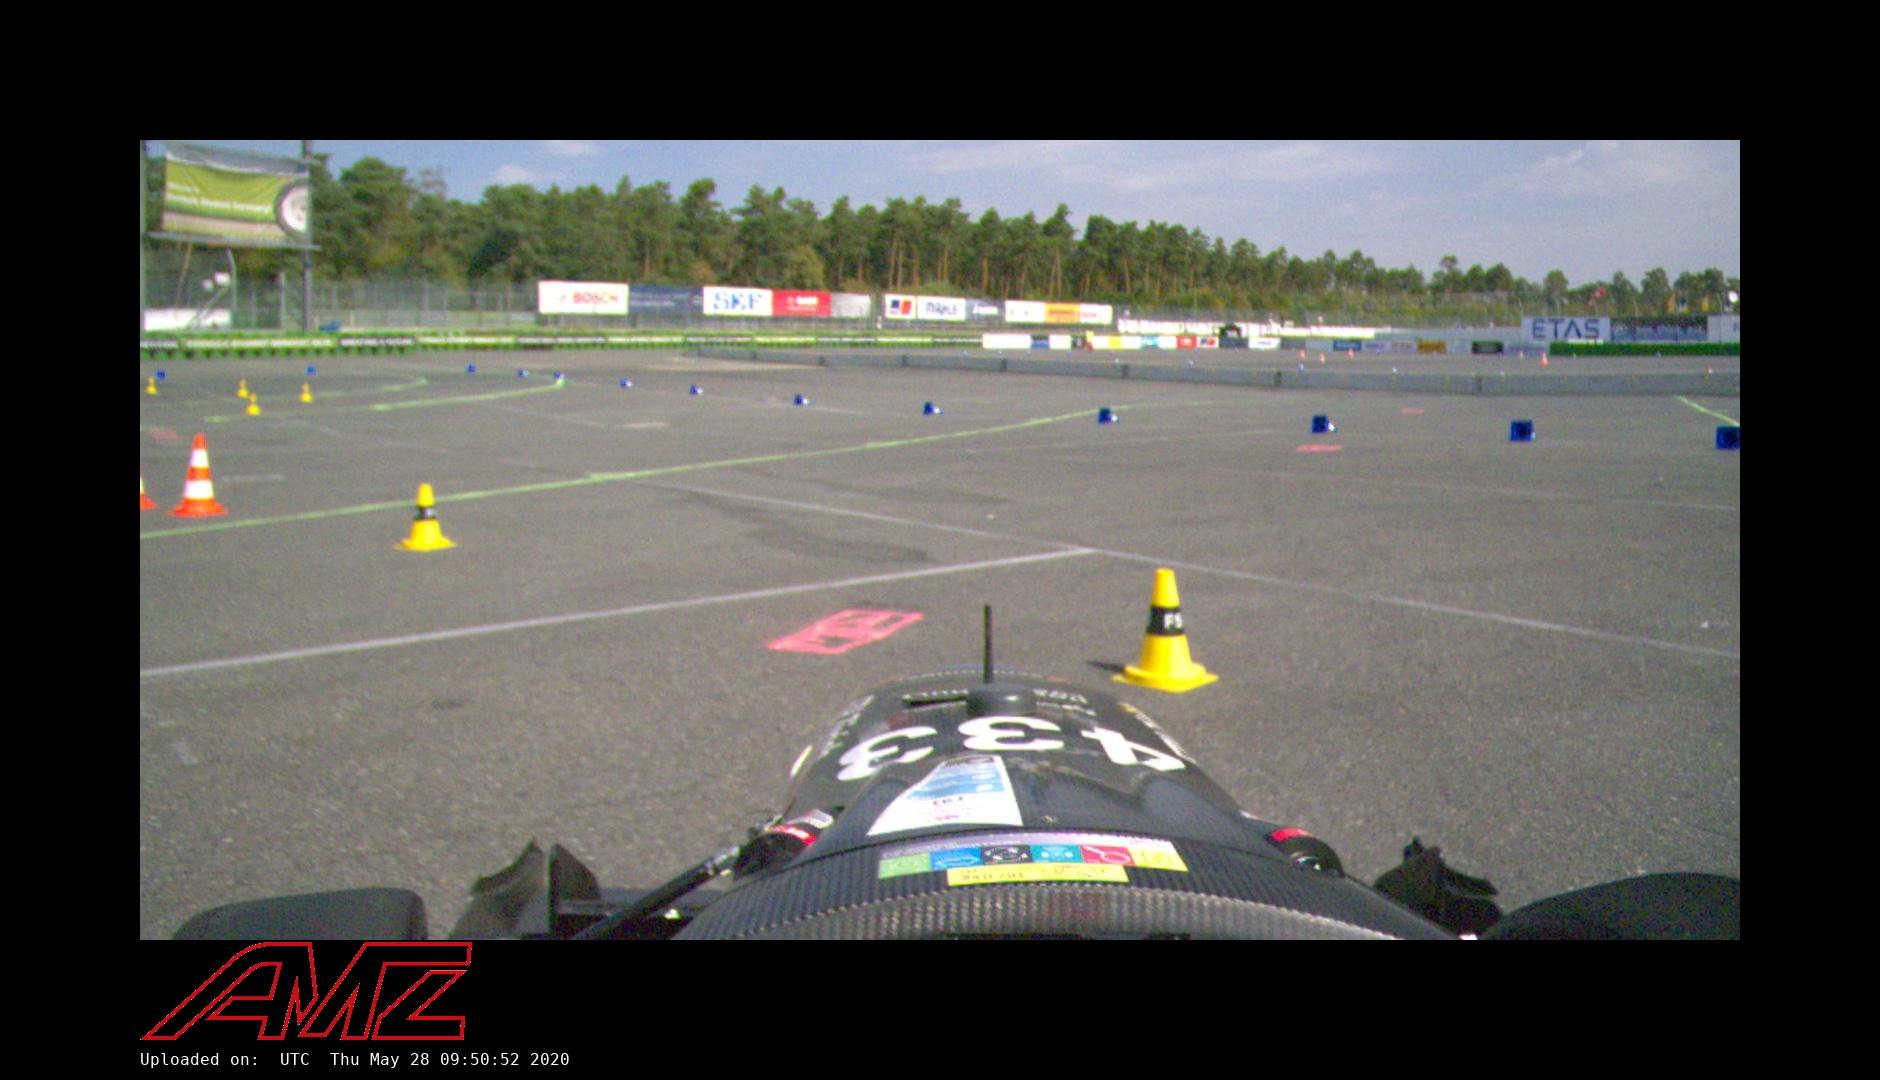blue_cone: (1509, 419, 1537, 442), (1311, 413, 1339, 434), (1098, 407, 1119, 424), (922, 400, 944, 415), (792, 394, 812, 406), (688, 384, 706, 397)
large_orange_cone: (167, 431, 229, 518)
yellow_cone: (1110, 568, 1218, 692), (391, 483, 455, 553)
